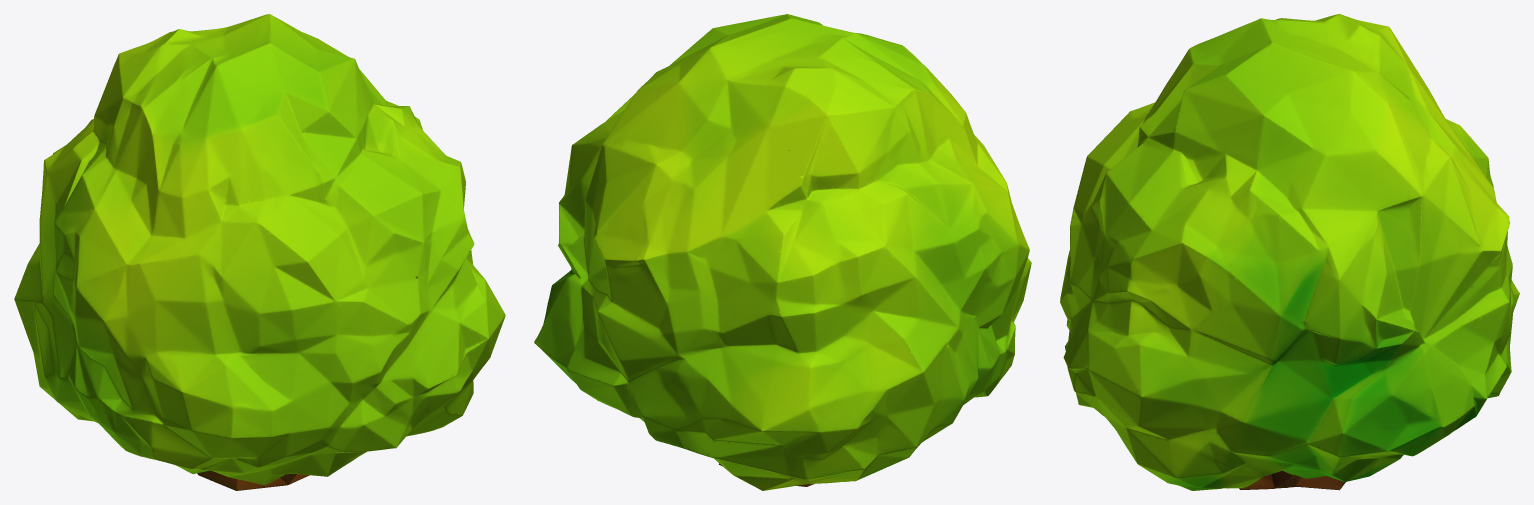
Rendered from bush.glb.
3 renders of one model, left to right at view 1: azimuth 30°, elevation 25°; view 2: azimuth 150°, elevation 25°; view 3: azimuth 270°, elevation 25°, orthographic.
Size of the model in its own units: 1.89 by 1.9 by 1.84.
Materials: 1 (1 with a texture image).
